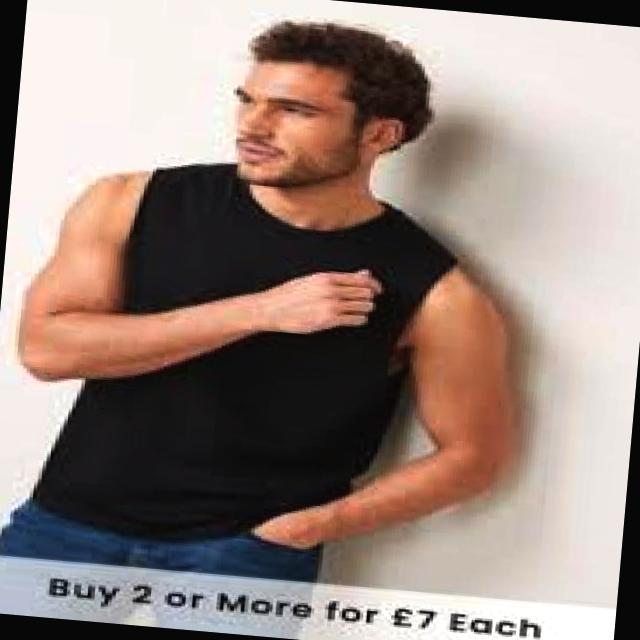no_vest: (24, 146, 466, 561)
